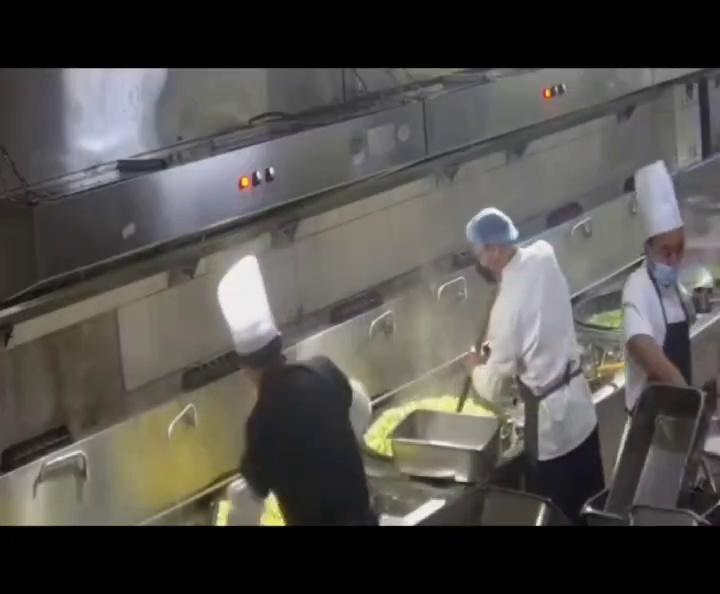mask: (658, 242, 684, 284)
